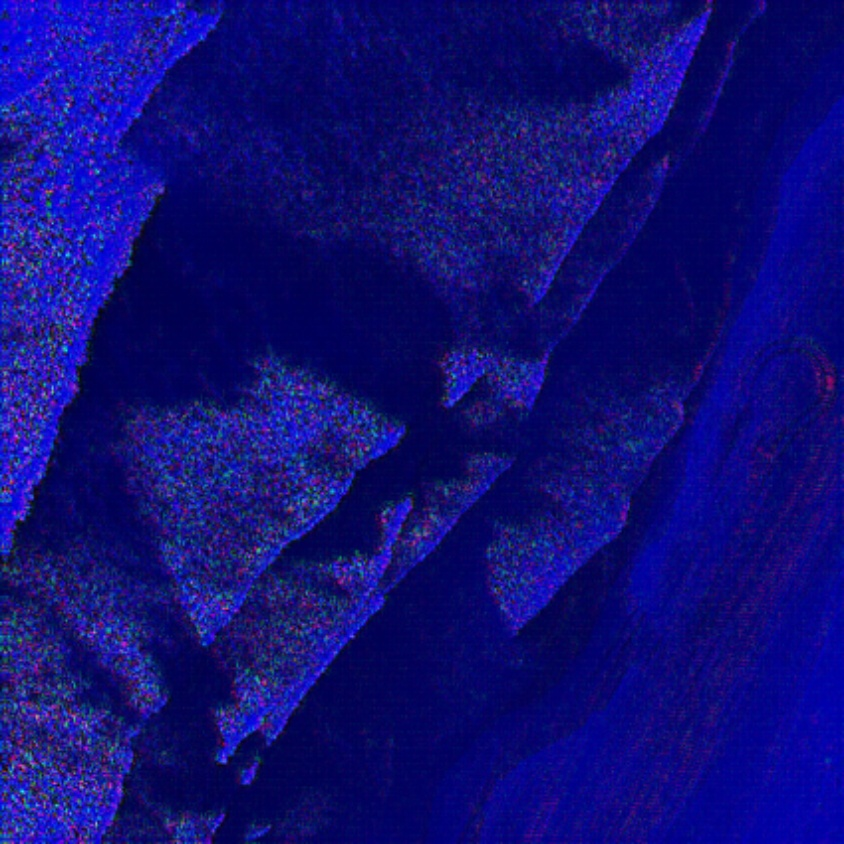rip_current: (238, 272, 596, 501)
